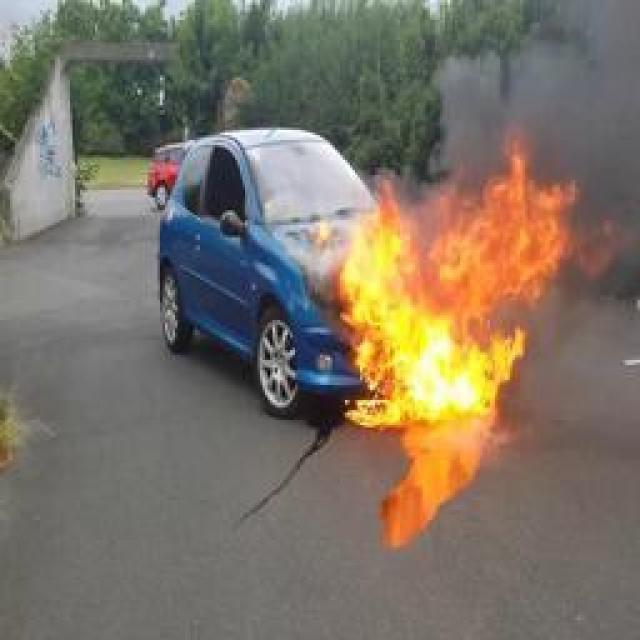Fire: (335, 135, 575, 423)
